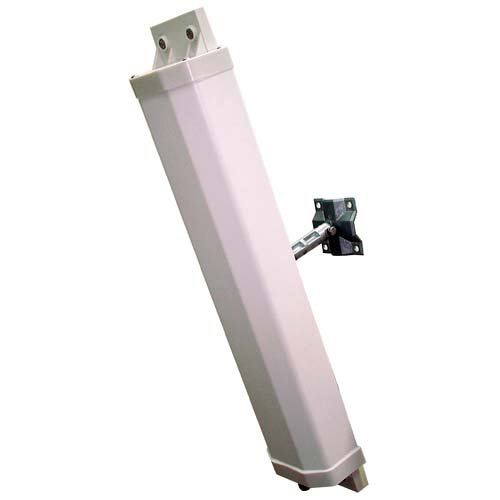sa: (124, 9, 381, 483)
